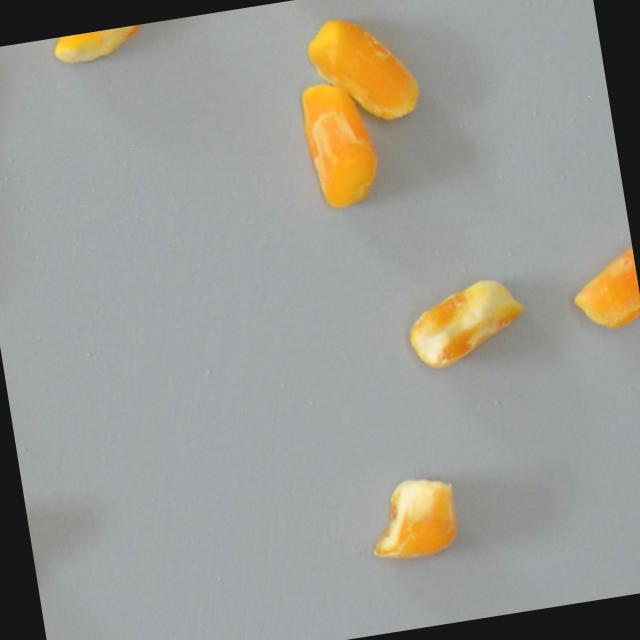pelicula: (284, 74, 389, 217), (317, 0, 422, 137), (400, 269, 533, 372), (361, 469, 465, 567), (563, 234, 640, 337), (68, 23, 160, 83)
